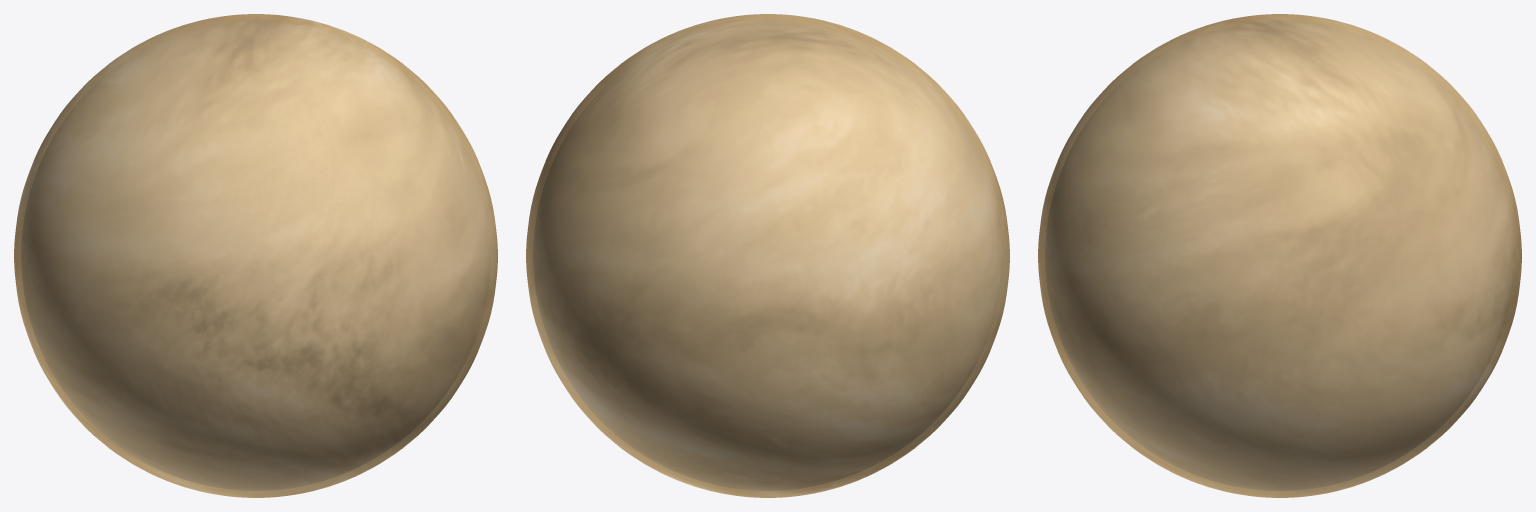
3 renders of one model, left to right at view 1: azimuth 30°, elevation 25°; view 2: azimuth 150°, elevation 25°; view 3: azimuth 270°, elevation 25°, orthographic.
Visible parts, largest first — view 1: atmosphere, venus; view 2: atmosphere, venus; view 3: atmosphere, venus.
Boxes of the visible parts, bbox=[...] form: atmosphere: bbox=[14, 14, 497, 497]; venus: bbox=[21, 21, 490, 490]; atmosphere: bbox=[526, 14, 1009, 497]; venus: bbox=[533, 21, 1002, 490]; atmosphere: bbox=[1038, 14, 1521, 497]; venus: bbox=[1045, 21, 1514, 490].
Size of the model in its own units: 26.73 by 26.74 by 26.73.
